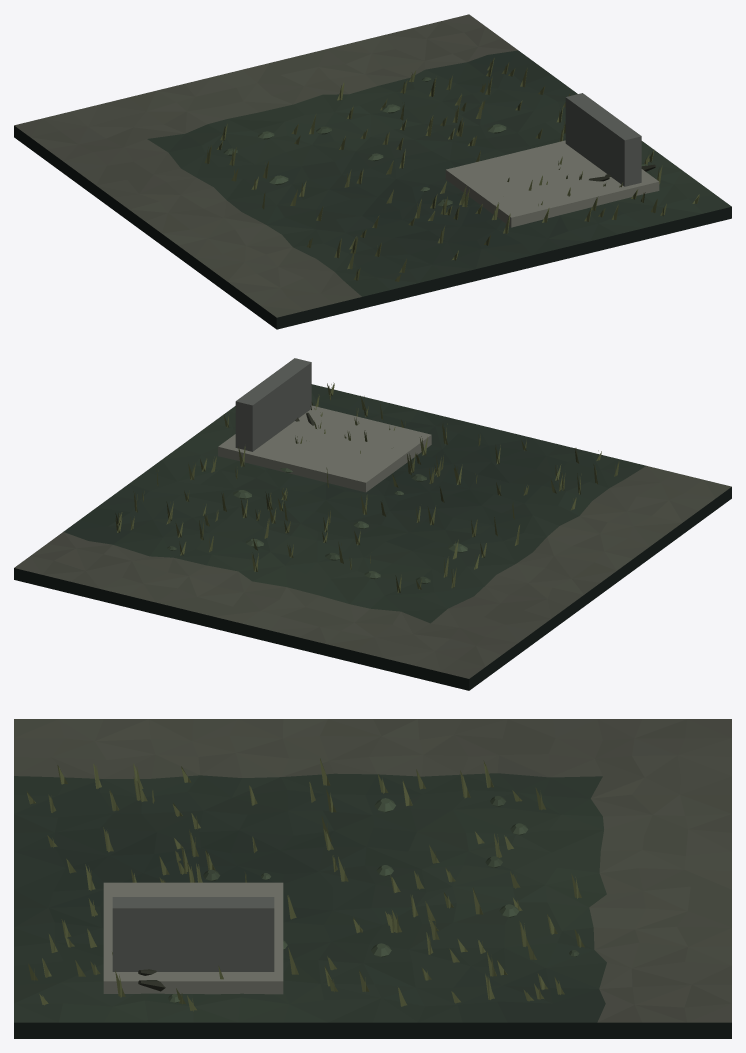
Rendered from CHUNK_ruined_monastery__rootbound_pilgrim_house__11.glb.
The picture shows the model from 3 angles, top to bottom: view 1: azimuth 30°, elevation 25°; view 2: azimuth 150°, elevation 25°; view 3: azimuth 270°, elevation 25°; orthographic projection. The views are drawn at different scales.
Parts seen in each view (by area): view 1: CHUNK_ruined_monastery__rootbound_pilgrim_house__11; view 2: CHUNK_ruined_monastery__rootbound_pilgrim_house__11; view 3: CHUNK_ruined_monastery__rootbound_pilgrim_house__11.
Boxes of the visible parts, left/top/right/bottom form: CHUNK_ruined_monastery__rootbound_pilgrim_house__11: left=14, top=14, right=731, bottom=329; CHUNK_ruined_monastery__rootbound_pilgrim_house__11: left=14, top=358, right=731, bottom=690; CHUNK_ruined_monastery__rootbound_pilgrim_house__11: left=14, top=719, right=731, bottom=1038.
Size of the model in its own units: 8 by 1.16 by 8.
